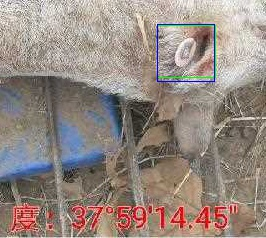text: (157, 25, 215, 77)
